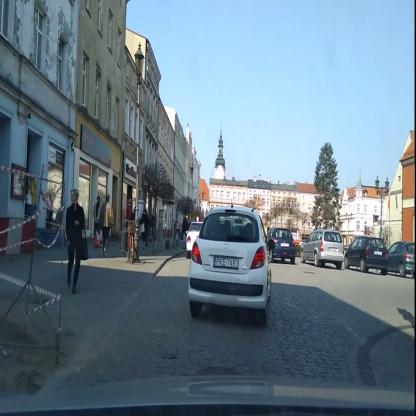cars: (189, 206, 272, 324), (300, 230, 344, 268), (345, 236, 388, 274), (386, 240, 416, 278), (267, 227, 296, 265), (186, 223, 203, 257)
